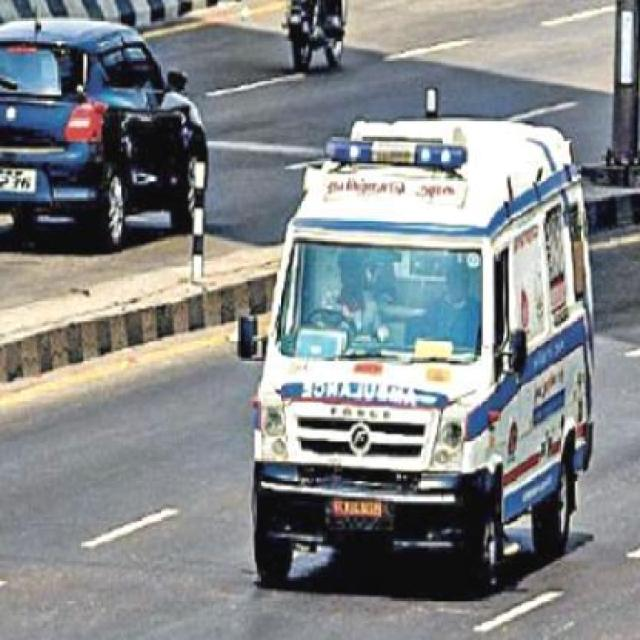Ambulance: (276, 112, 616, 597)
